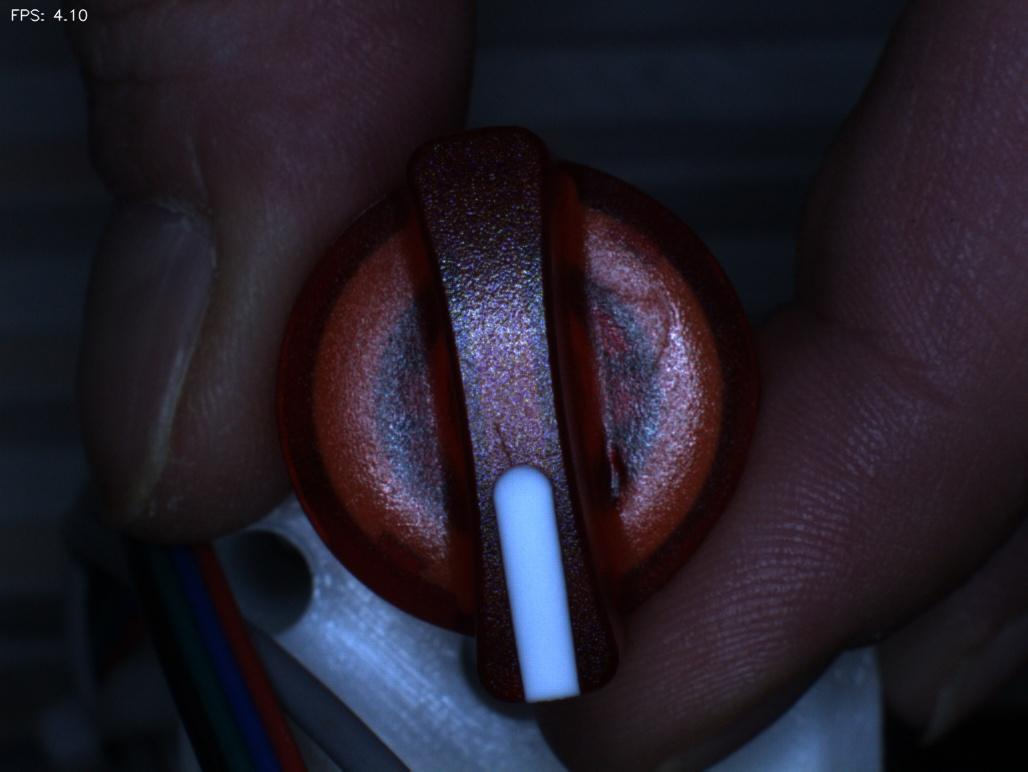Choc: (565, 427, 648, 523)
